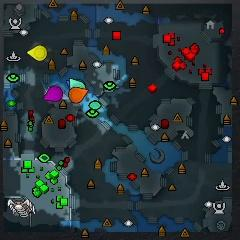p1: (65, 80, 70, 87)
p2: (70, 78, 85, 90)
p3: (44, 85, 63, 102)
p4: (26, 44, 48, 61)
p5: (69, 87, 88, 104)
